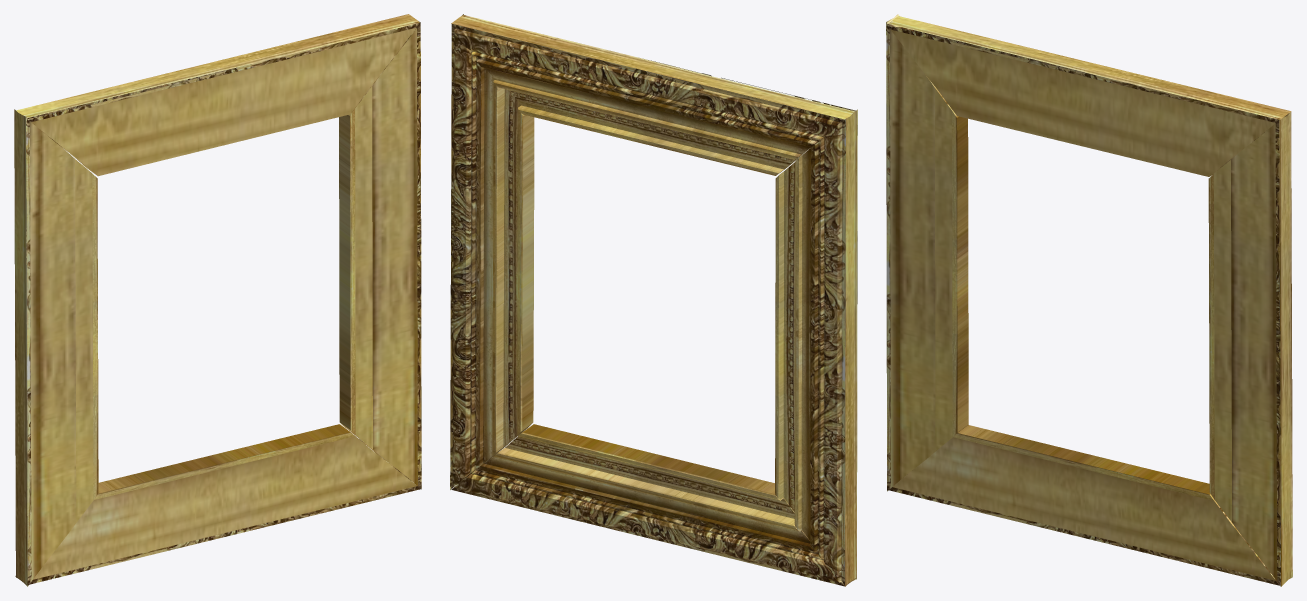
The model's file is Painting frame.fbx.
3 renders of one model, left to right at view 1: azimuth 30°, elevation 25°; view 2: azimuth 150°, elevation 25°; view 3: azimuth 330°, elevation 25°, orthographic.
Parts seen in each view (by area): view 1: Frame; view 2: Frame; view 3: Frame.
Part boxes in pixels (box(x1,y1,x2,y2)): Frame: box(14, 14, 421, 586); Frame: box(450, 14, 857, 586); Frame: box(886, 14, 1292, 586).
Bounding box in the file's own units: 125 × 141 × 8.01.
Materials: 1 (1 with a texture image).
